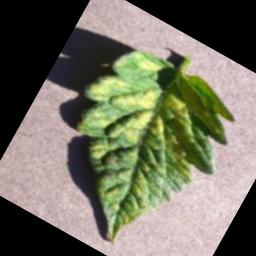Leaf_Mold: (23, 29, 251, 256)
